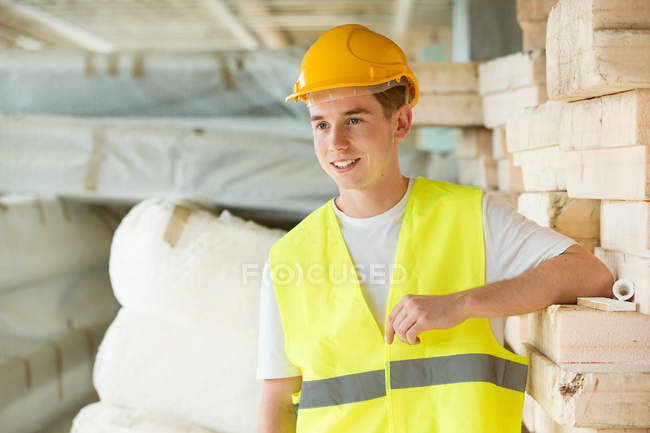Person_wearing_helmet: (282, 17, 422, 131)
